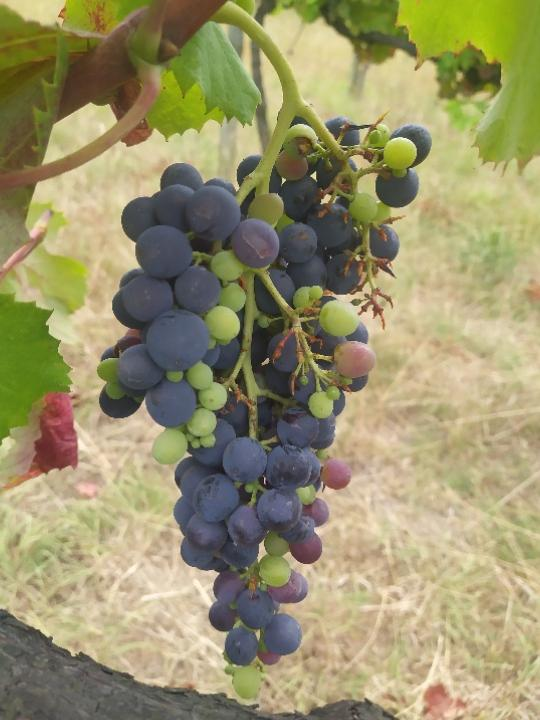grape: (93, 117, 434, 705)
